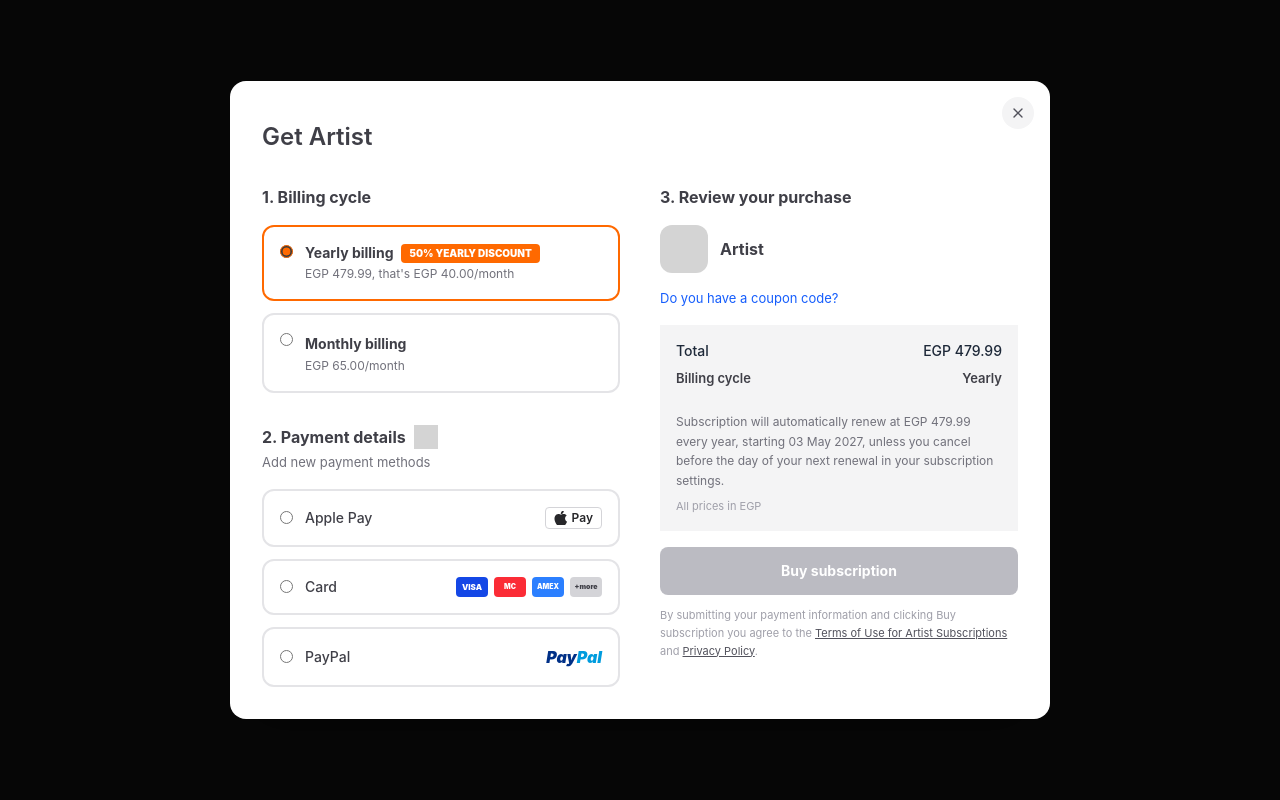
Scenario: CheckoutModal › shows validation errors when empty card inputs are blurred
This screenshot has width=1280, height=800.
Click the text "Card": (321, 586) [305, 578, 337, 595]
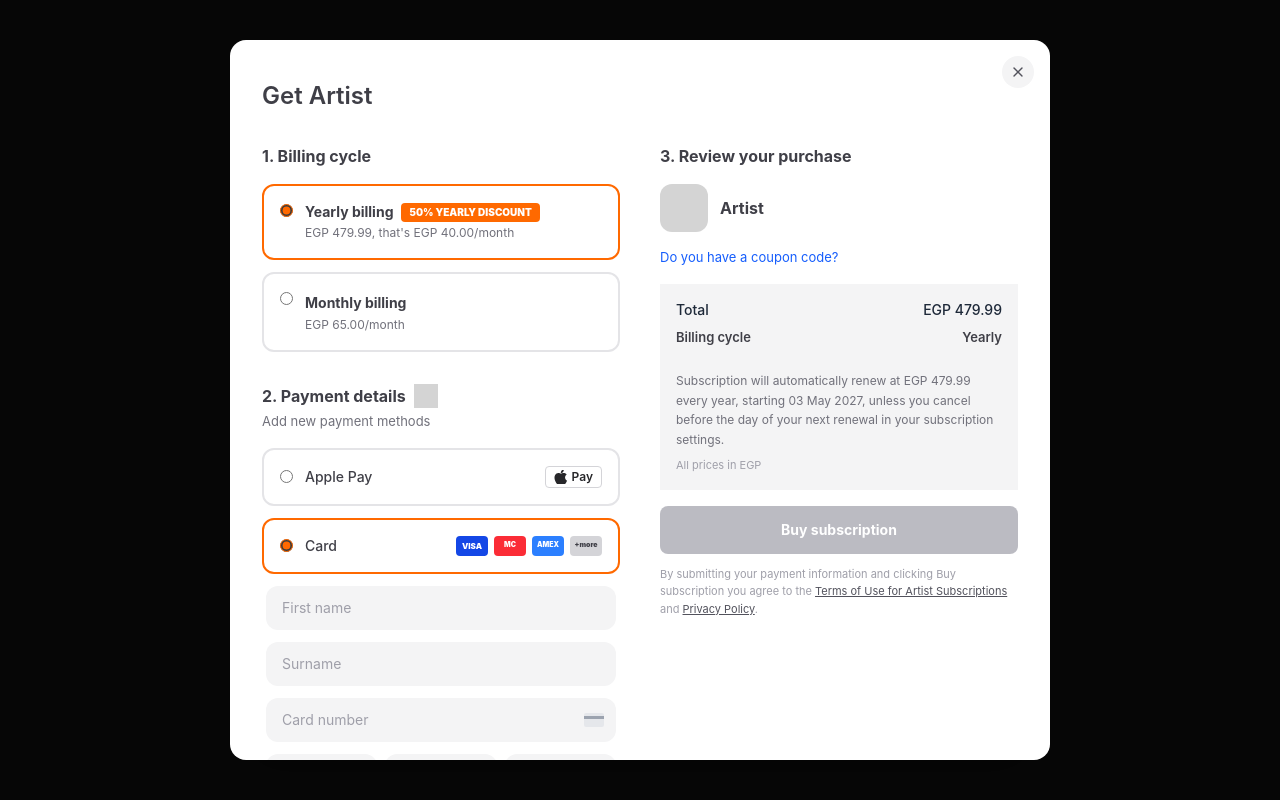
Leave the field with placeholder "First name", box [266, 586, 616, 630]
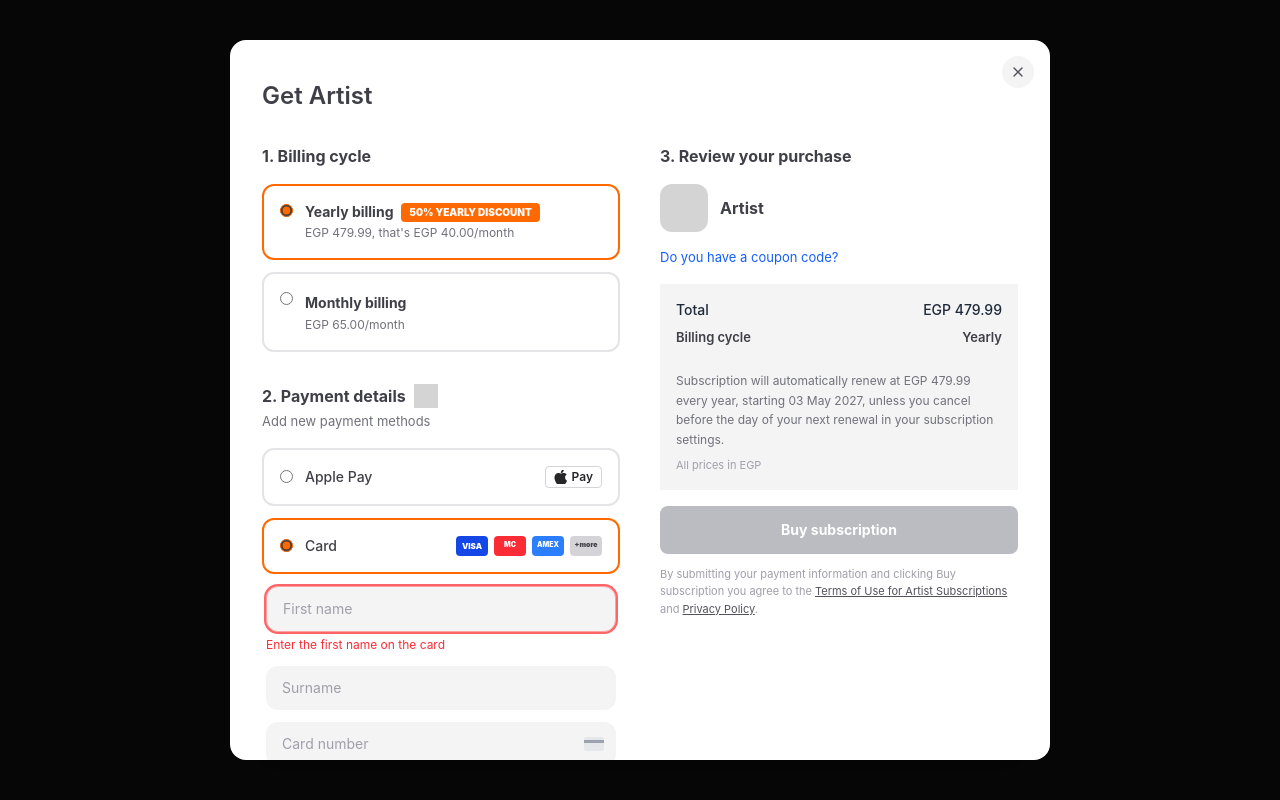
Leave the field with placeholder "Surname", box [266, 666, 616, 710]
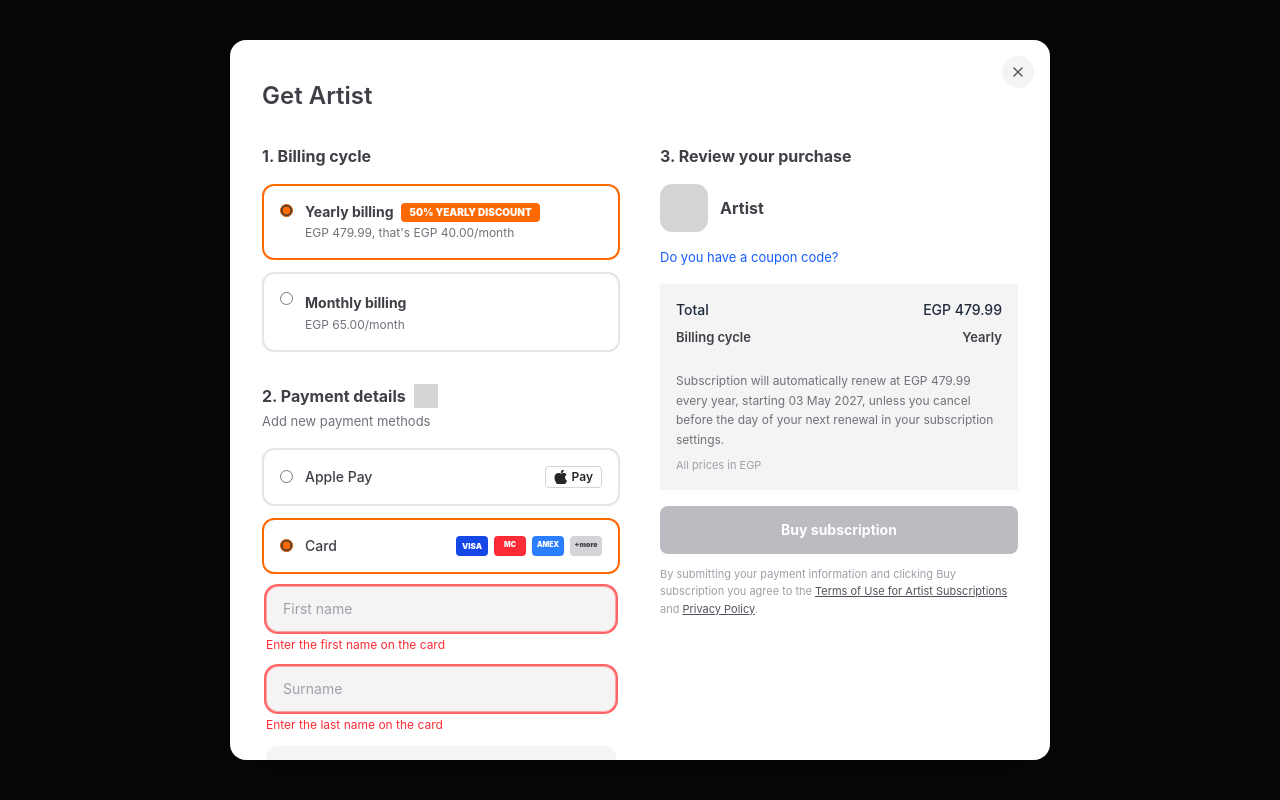
Now the text "Enter the first name on the card" is shown, box [266, 636, 445, 652]
Now the text "Enter the last name on the card" is shown, box [266, 716, 443, 732]
